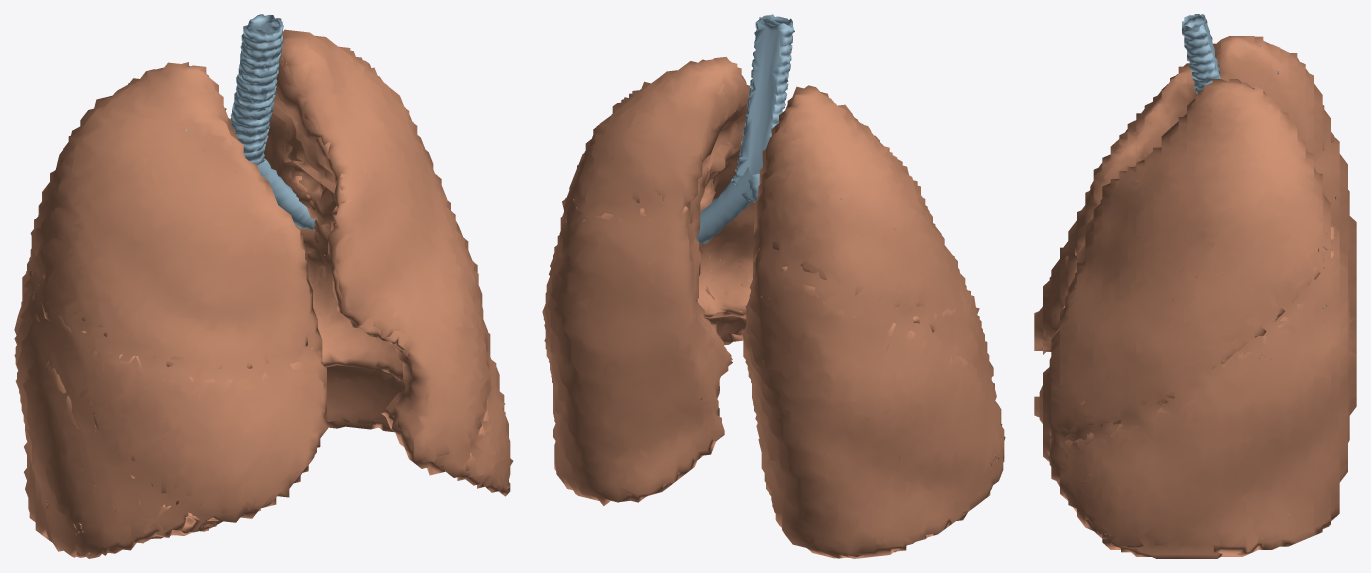
Rendered from paru.glb.
The picture shows the model from 3 angles, left to right: view 1: azimuth 30°, elevation 25°; view 2: azimuth 150°, elevation 25°; view 3: azimuth 270°, elevation 25°; orthographic projection. The views are drawn at different scales.
Visible parts, largest first — view 1: Pleura, Superior lobe of left lung, Superior lobe of right lung, Middle lobe of right lung, Trachea, Inferior lobe of right lung, Inferior lobe of left lung, Left main bronchus; view 2: Pleura, Inferior lobe of right lung, Inferior lobe of left lung, Trachea, Superior lobe of right lung, Superior lobe of left lung, Left main bronchus; view 3: Pleura, Superior lobe of left lung, Inferior lobe of left lung, Superior lobe of right lung, Trachea, Middle lobe of right lung.
Part boxes in pixels (x1,y1,x2,y2): Pleura: [14, 29, 513, 557]; Superior lobe of left lung: [264, 36, 487, 463]; Superior lobe of right lung: [35, 71, 310, 368]; Middle lobe of right lung: [39, 285, 324, 520]; Trachea: [230, 14, 283, 165]; Inferior lobe of right lung: [20, 270, 216, 558]; Inferior lobe of left lung: [308, 252, 505, 485]; Left main bronchus: [257, 158, 315, 229]; Pleura: [542, 57, 1005, 558]; Inferior lobe of right lung: [747, 248, 1001, 558]; Inferior lobe of left lung: [548, 206, 743, 502]; Trachea: [731, 14, 794, 202]; Superior lobe of right lung: [759, 96, 955, 307]; Superior lobe of left lung: [563, 59, 753, 299]; Left main bronchus: [696, 167, 754, 244]; Pleura: [1034, 36, 1356, 553]; Superior lobe of left lung: [1039, 82, 1327, 437]; Inferior lobe of left lung: [1045, 226, 1349, 558]; Superior lobe of right lung: [1075, 41, 1334, 255]; Trachea: [1182, 14, 1221, 93]; Middle lobe of right lung: [1039, 255, 1076, 343].
Size of the model in its own units: 1.78 by 2 by 1.29.
